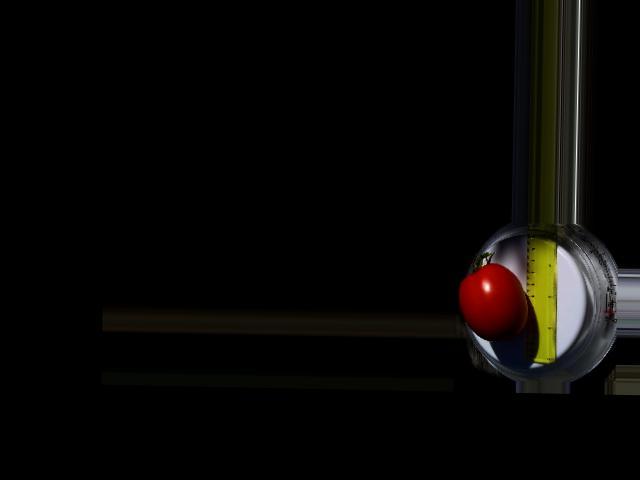tomato: (457, 261, 530, 341)
